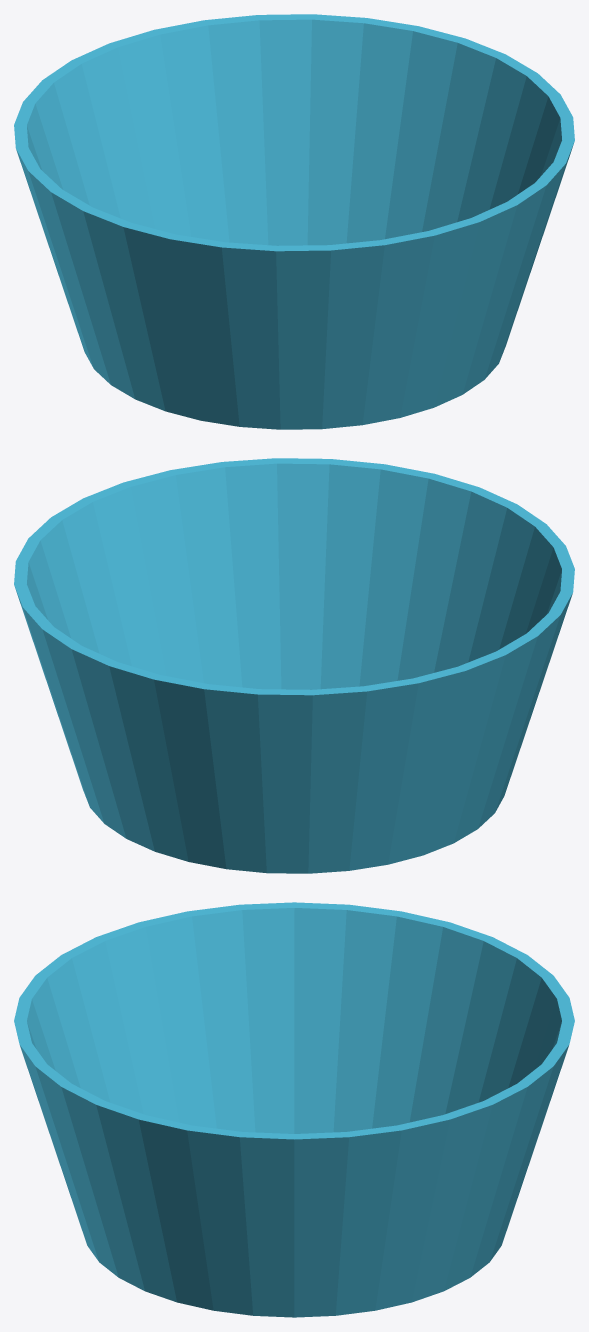
File: mafin.fbx
The picture shows the model from 3 angles, top to bottom: view 1: azimuth 30°, elevation 25°; view 2: azimuth 150°, elevation 25°; view 3: azimuth 270°, elevation 25°; orthographic projection.
Parts seen in each view (by area): view 1: korpica plava.001; view 2: korpica plava.001; view 3: korpica plava.001.
Part boxes in pixels (x1,y1,x2,y2): korpica plava.001: [14, 14, 574, 429]; korpica plava.001: [14, 458, 574, 873]; korpica plava.001: [14, 902, 574, 1317].
Size of the model in its own units: 82.61 by 33.69 by 82.61.
